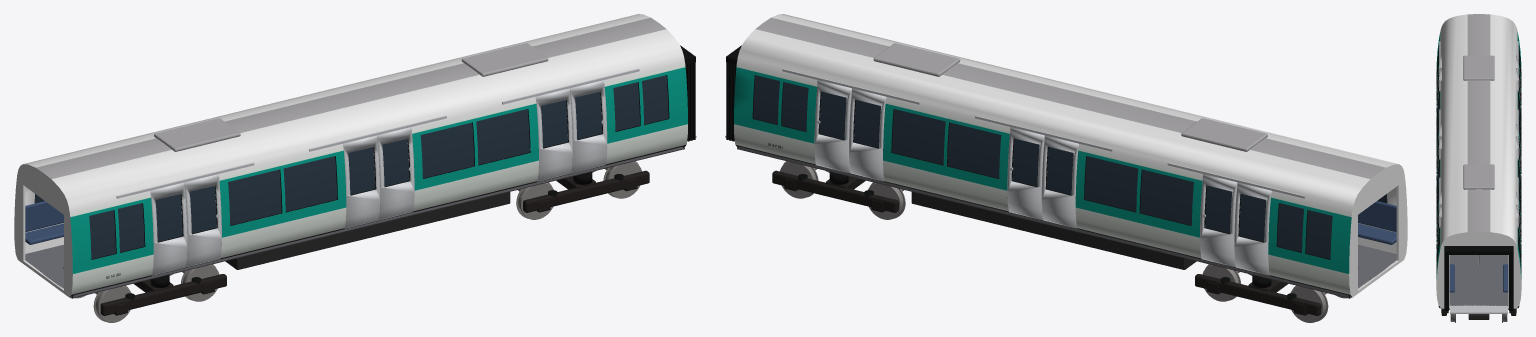
File: mf01_car.glb
The picture shows the model from 3 angles, left to right: view 1: azimuth 30°, elevation 25°; view 2: azimuth 150°, elevation 25°; view 3: azimuth 270°, elevation 25°; orthographic projection. The views are drawn at different scales.
Parts seen in each view (by area): view 1: mf01_car_neutral; view 2: mf01_car_neutral; view 3: mf01_car_neutral.
Boxes of the visible parts, left/top/right/bottom form: mf01_car_neutral: left=14, top=14, right=696, bottom=322; mf01_car_neutral: left=725, top=14, right=1407, bottom=322; mf01_car_neutral: left=1436, top=14, right=1521, bottom=322.
Size of the model in its own units: 15.3 by 3.5 by 2.46.
Materials: 5 (3 with a texture image).
